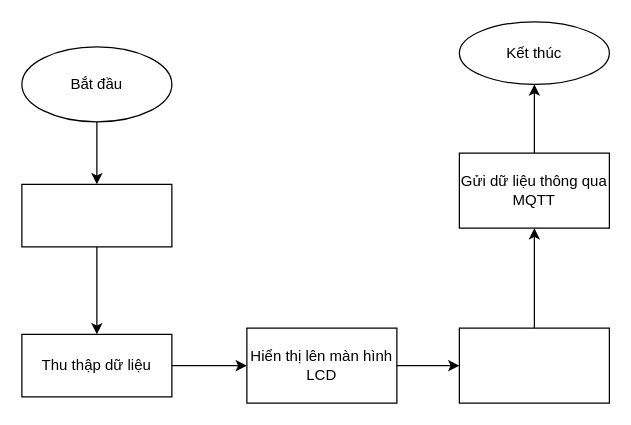
This 631x425 diagram has some shape labels left out. Here are the shapes that lost their labels. From the top down, the box of each, then its label:
(21, 183, 172, 247): Khỏi tạo hệ thông và các cảm biến
(458, 327, 609, 403): Lưu trữ dữ liệu
